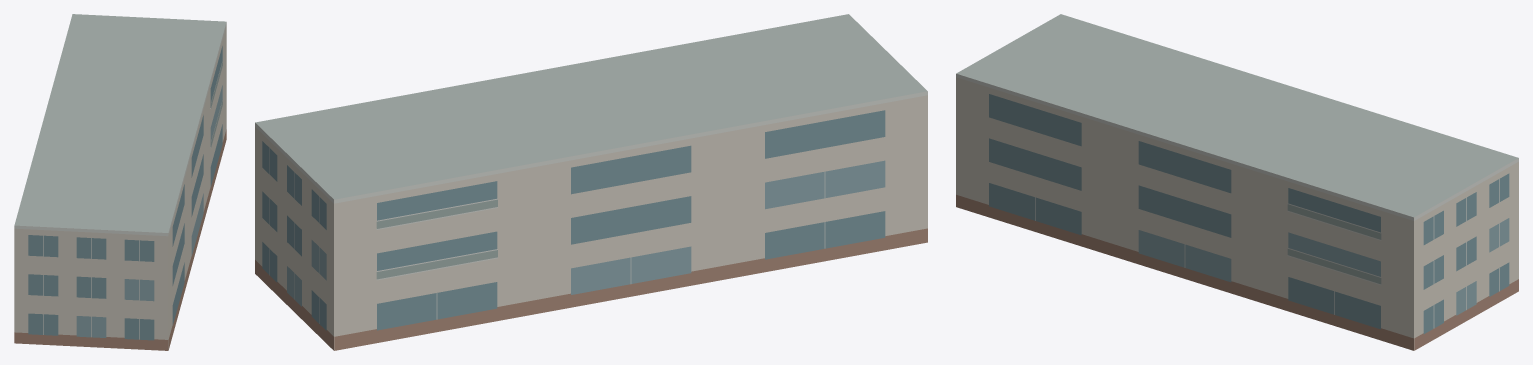
Rendered from residential-f5f44d7e-d694-4afd-9c63-5525661b6d99.glb.
The picture shows the model from 3 angles, left to right: view 1: azimuth 30°, elevation 25°; view 2: azimuth 150°, elevation 25°; view 3: azimuth 270°, elevation 25°; orthographic projection. The views are drawn at different scales.
Parts seen in each view (by area): view 1: residential-f5f44d7e-d694-4afd-9c63-5525661b6d99.tmp; view 2: residential-f5f44d7e-d694-4afd-9c63-5525661b6d99.tmp; view 3: residential-f5f44d7e-d694-4afd-9c63-5525661b6d99.tmp.
Part boxes in pixels (x1,y1,x2,y2): residential-f5f44d7e-d694-4afd-9c63-5525661b6d99.tmp: (14, 14, 226, 350); residential-f5f44d7e-d694-4afd-9c63-5525661b6d99.tmp: (255, 14, 927, 350); residential-f5f44d7e-d694-4afd-9c63-5525661b6d99.tmp: (956, 14, 1518, 350).
Bounding box in the file's own units: 29.93 × 9.15 × 34.99.
